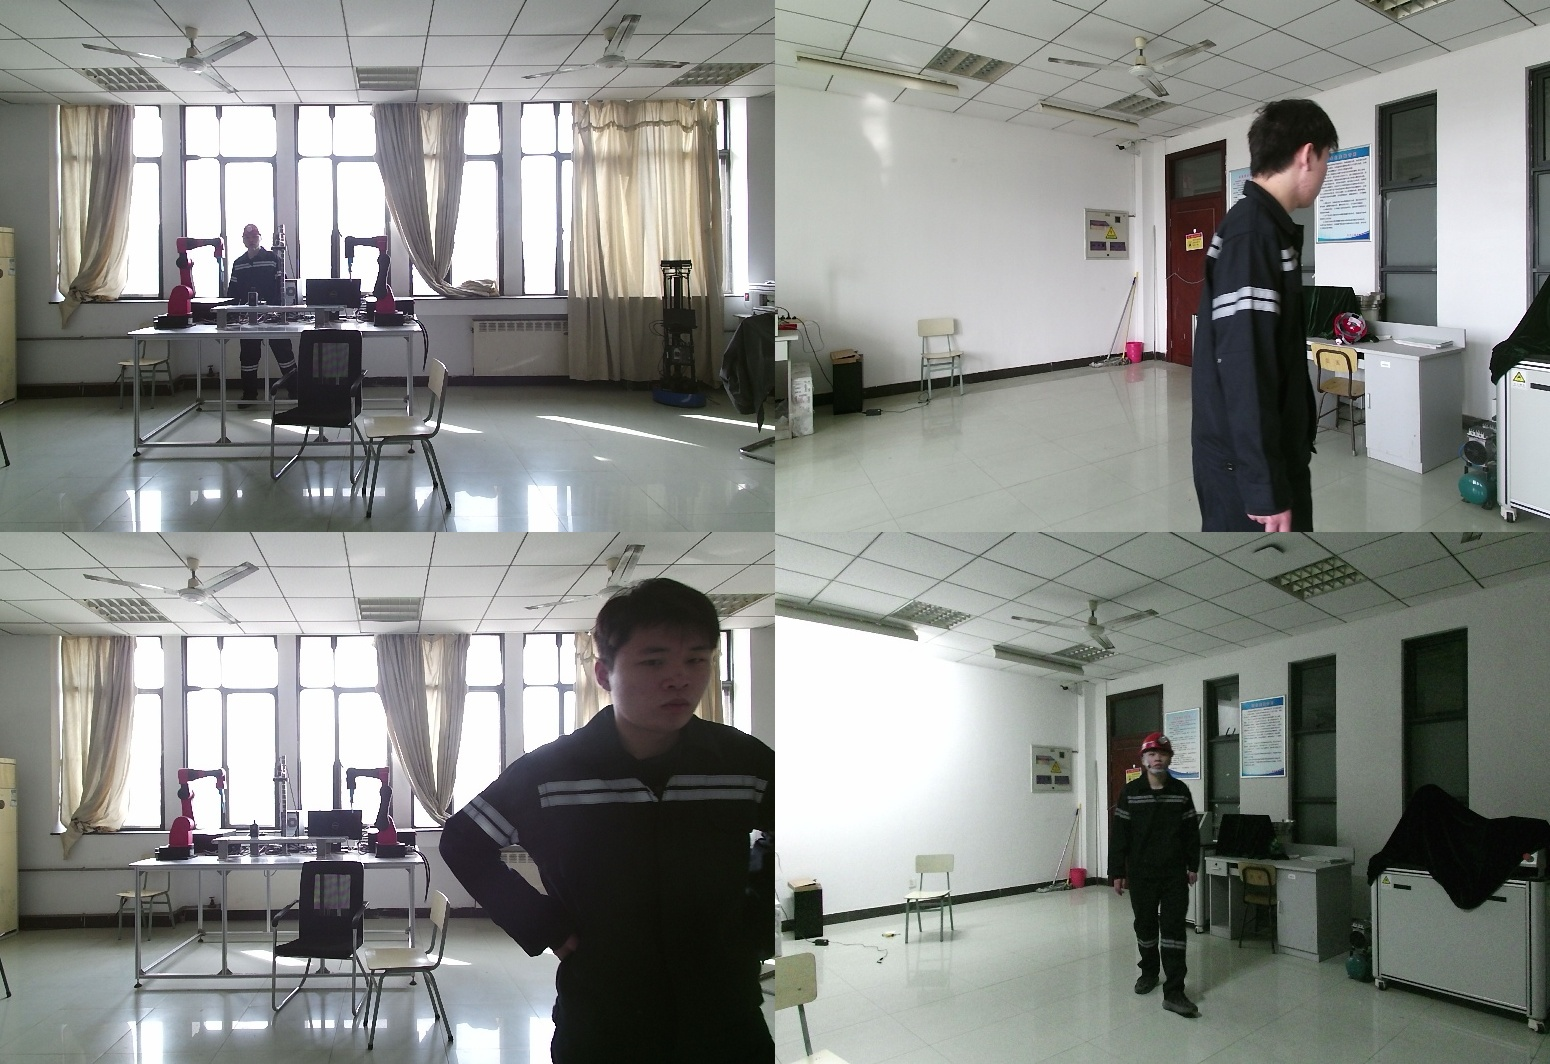person: (442, 581, 775, 1064), (1187, 100, 1335, 532), (1106, 734, 1208, 1017), (224, 224, 300, 409)
